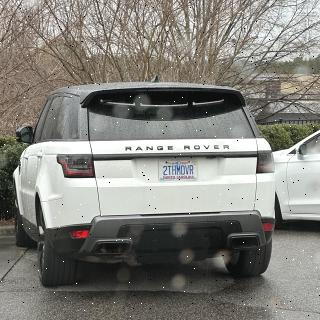license: (159, 159, 199, 182)
